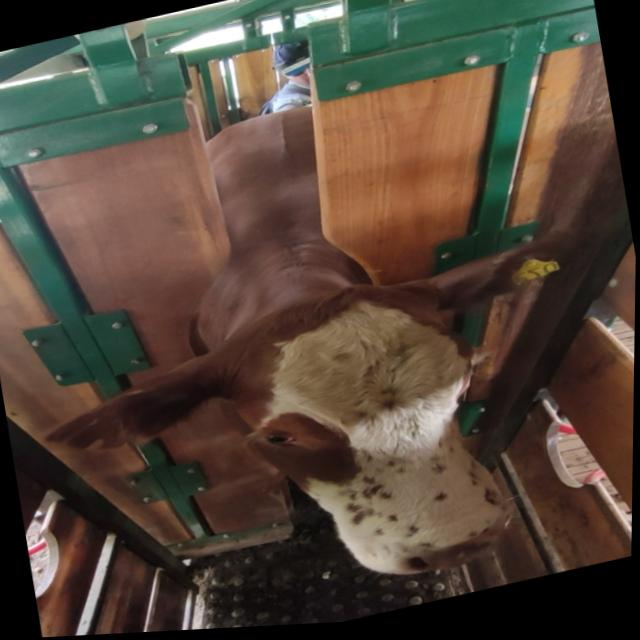cowFace: (227, 267, 518, 608)
